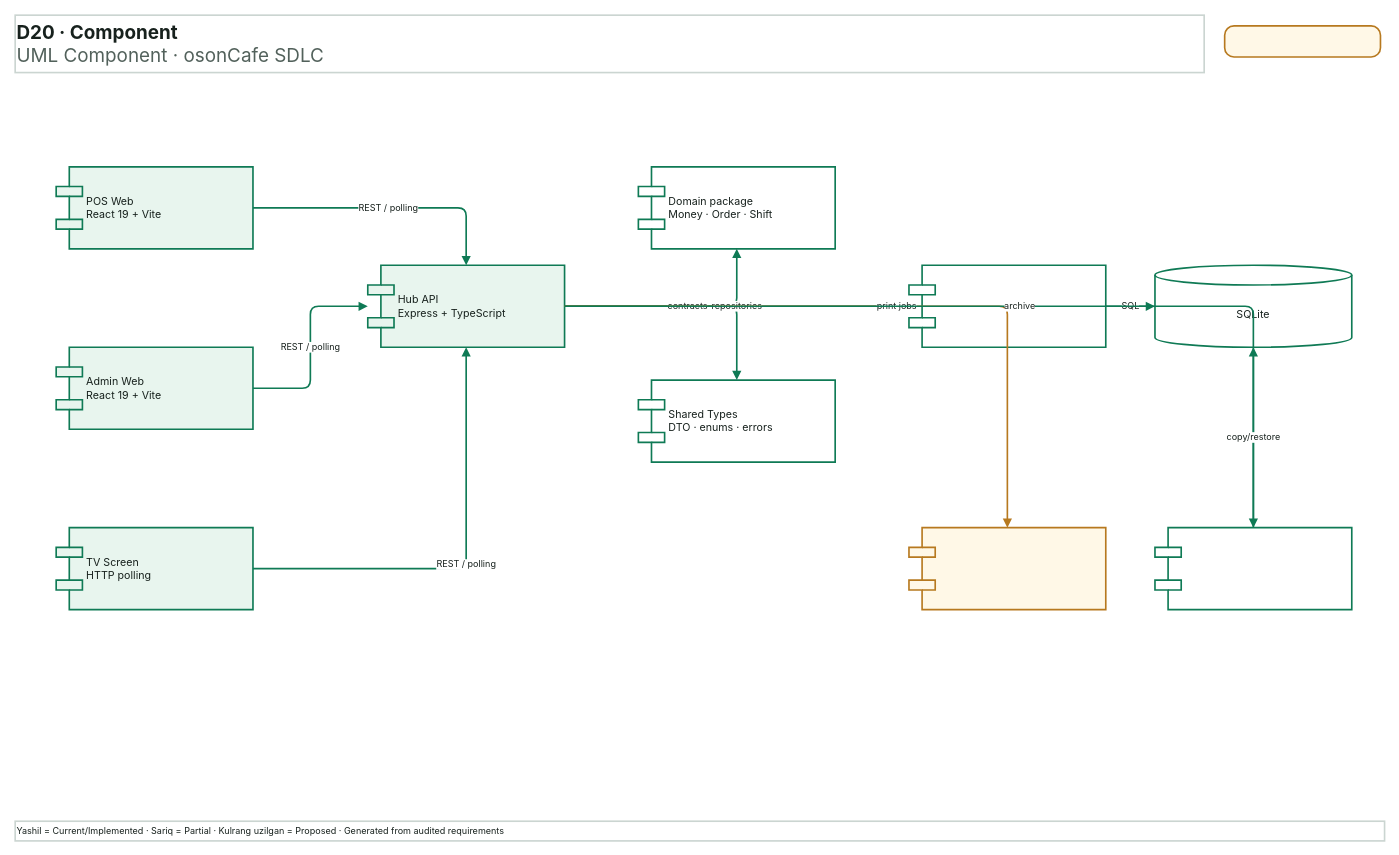
The diagram is 1399 pixels wide and 855 high, and some of its shapes have lost their labels. The shapes that lost their labels are listed below. From the top down, each one's centre as x and y in pixels, then its label:
At pixel 1302 41: "Current + Partial".
At pixel 1007 306: "Prisma ORM".
At pixel 1007 568: "Printer adapter Physical validation".
At pixel 1253 568: "Backup/restore ZIP + retention".
